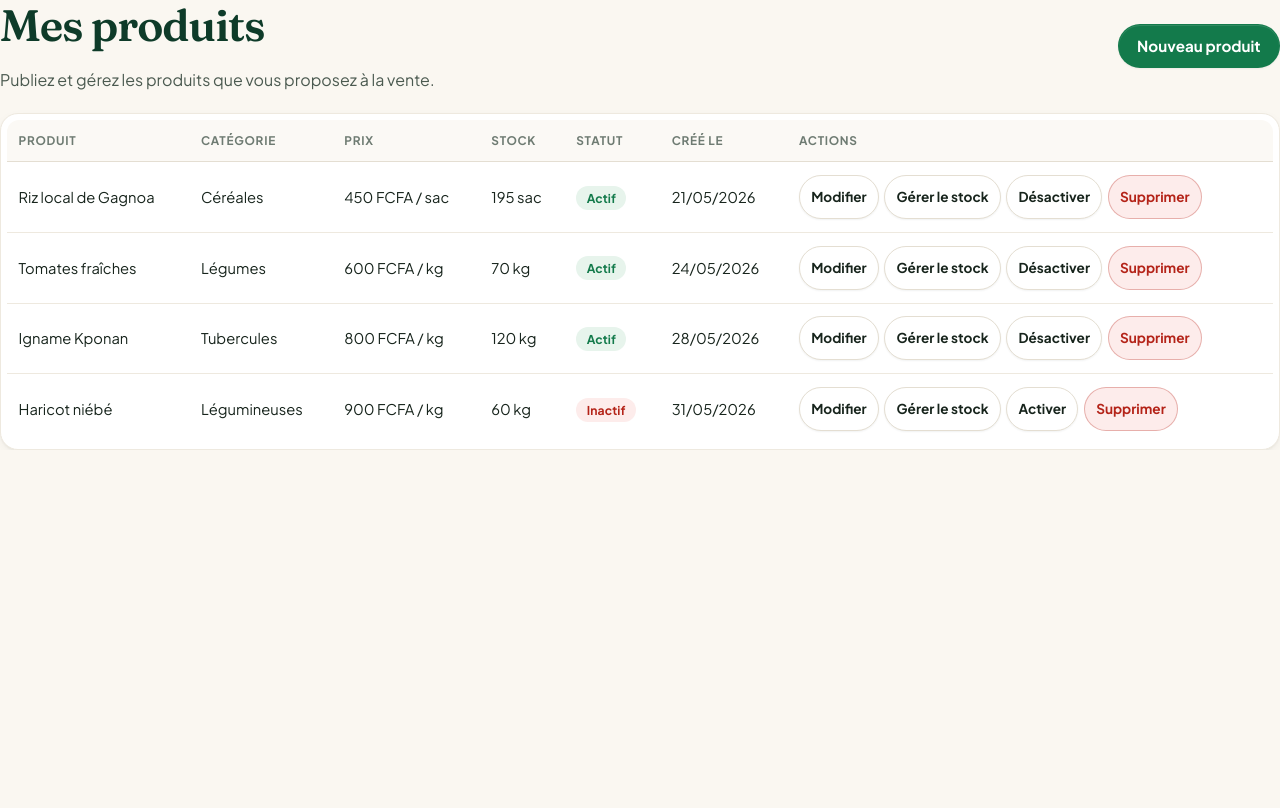
Test: ProduitsProducteurComponent (task 5.8) › affiche les erreurs de validation d’un formulaire incomplet
Click the button "Nouveau produit". click: point(1199, 46)
box: [1118,24,1279,68]
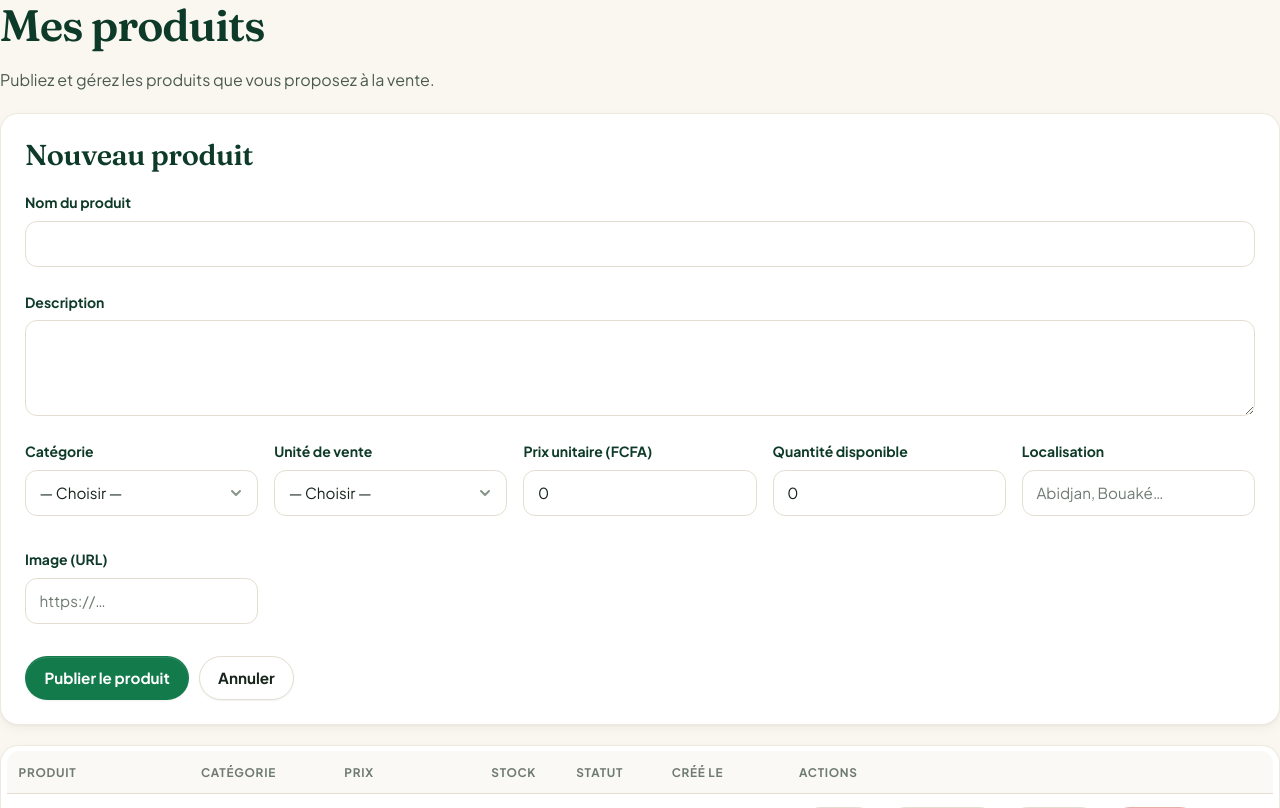
Click the button "Publier le produit". click: point(107, 678)
box: [25,656,189,700]
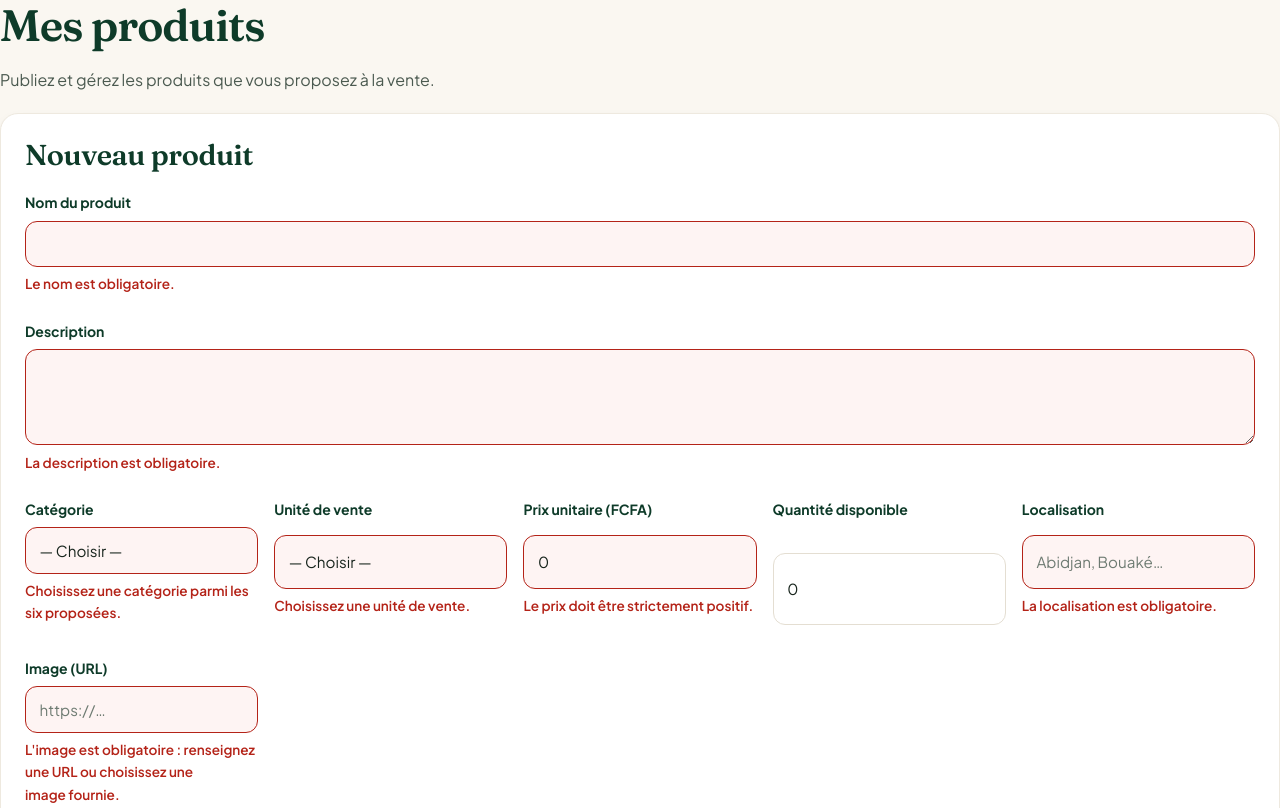
Now the text "Le nom est obligatoire." is shown, box [25,275,175,292]
Now the text "Choisissez une catégorie" is shown, box [25,582,249,622]
